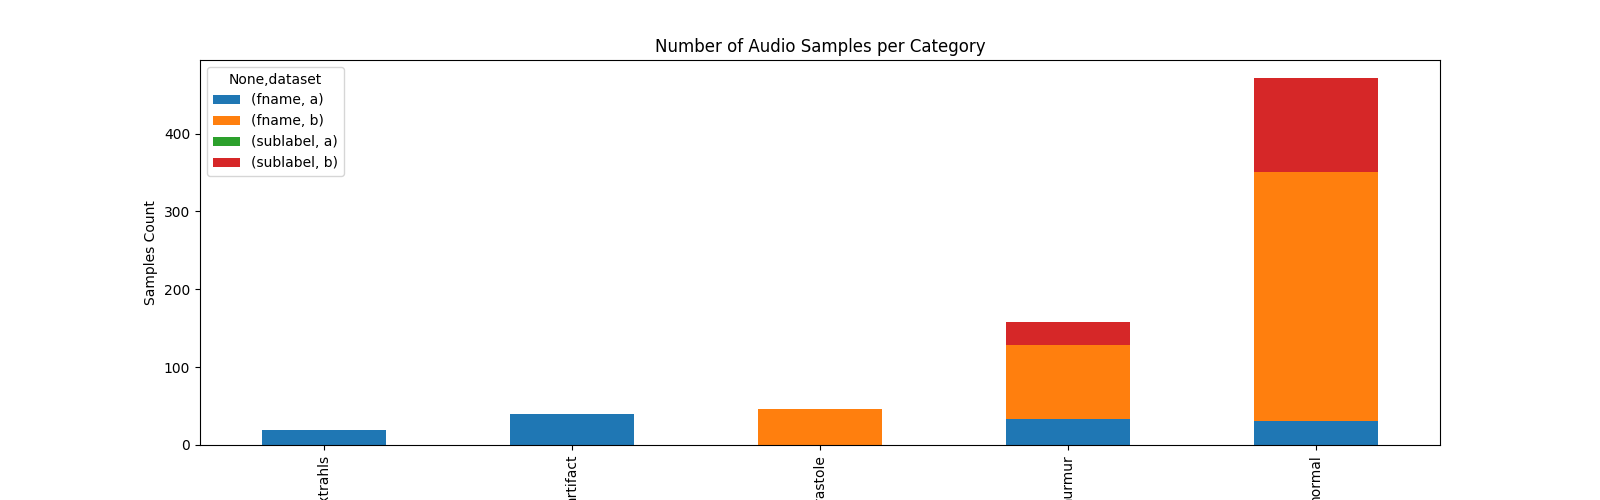

The page's visual inventory and layout, read from the dashboard file:
{"tool":"powerbi","page":{"name":"Page 1","canvas":[1280,720],"ordinal":0},"visuals":[{"type":"pythonVisual","fields":{"Values":["datanormal (4).Column1"]},"box":[305.5,0,973,506.8],"z":0},{"type":"actionButton","box":[0,0,100,40],"z":1000}]}

Visuals, with their boxes on the page's 1280x720 design canvas (x1, y1, x2, y2). These are canvas units, not pixel positions in the 1600x500 screenshot, which may show the page scaled, cropped or inside an application window:
pythonVisual - datanormal (4).Column1: [x1=306, y1=0, x2=1278, y2=507]
actionButton: [x1=0, y1=0, x2=100, y2=40]
